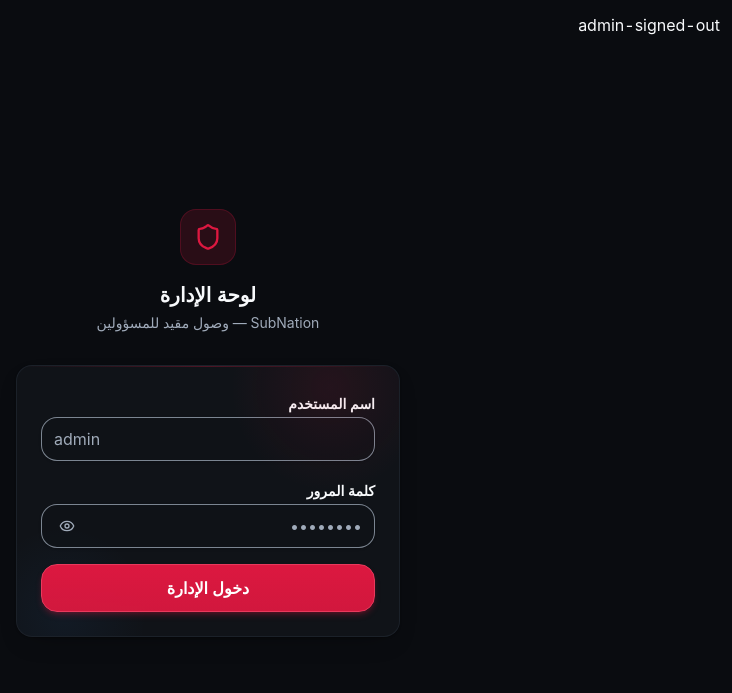
AdminLoginPage — password-step error banner speaks Arabic only (R126-L2 / A3-2) › a 429 lockout ApiError keeps the server's minutes — no «Too Many Requests»
Expected: the heading "لوحة الإدارة" is shown, x1=160 y1=283 x2=256 y2=307
In the field labelled "اسم المستخدم": (208, 439) x1=41 y1=417 x2=375 y2=461, type "root"
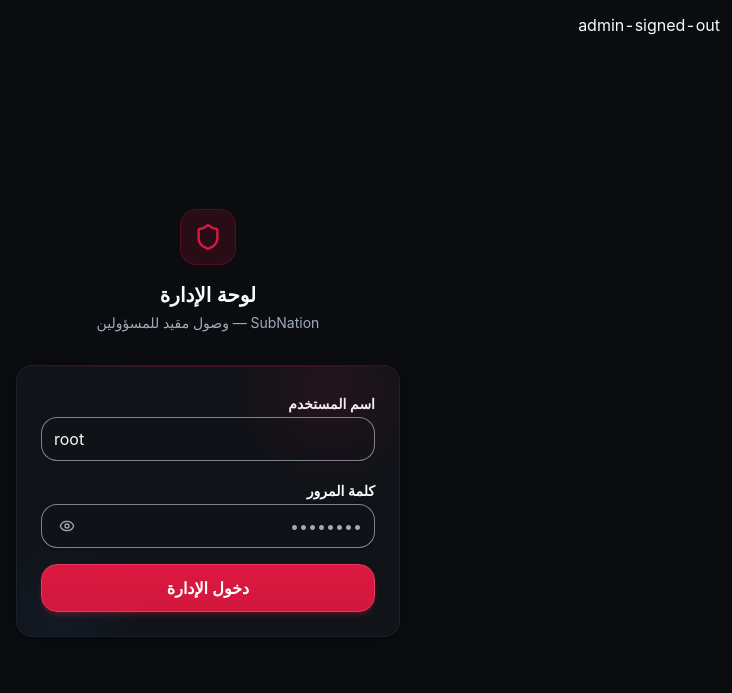
In the password field labelled "كلمة المرور": (208, 526) x1=41 y1=504 x2=375 y2=548, type "hunter2"
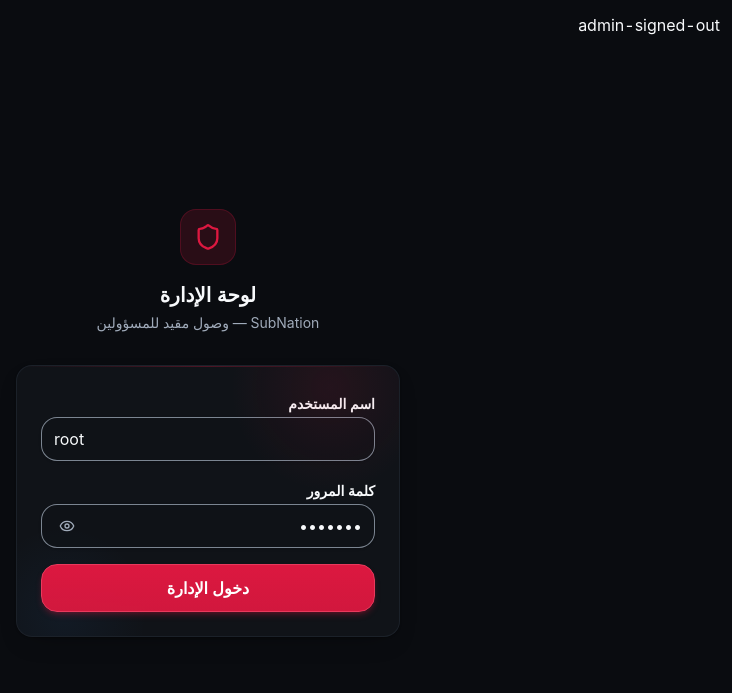
Submit the form, box x1=41 y1=390 x2=375 y2=612
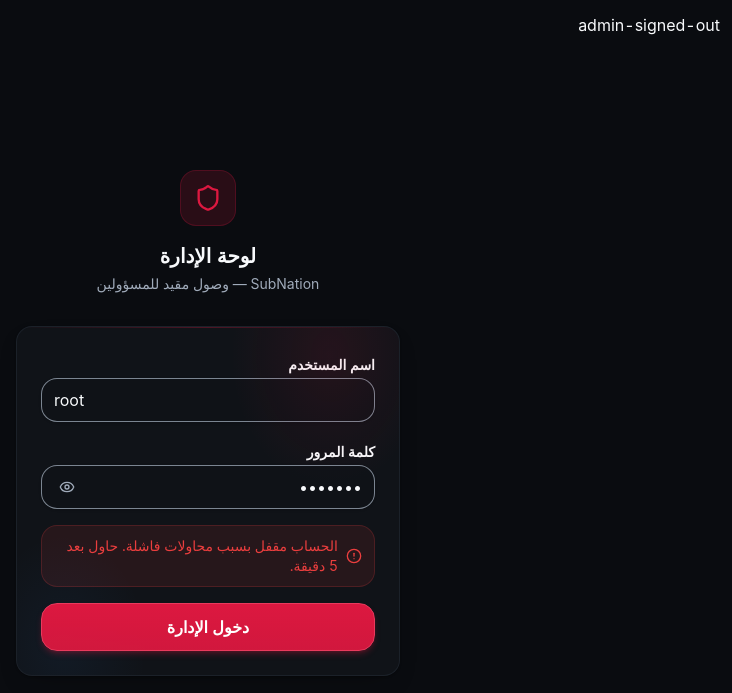
Now the message reads "الحساب مقفل بسبب محاولات فاشلة. حاول بعد 5 دقيقة.", box x1=66 y1=537 x2=338 y2=574
